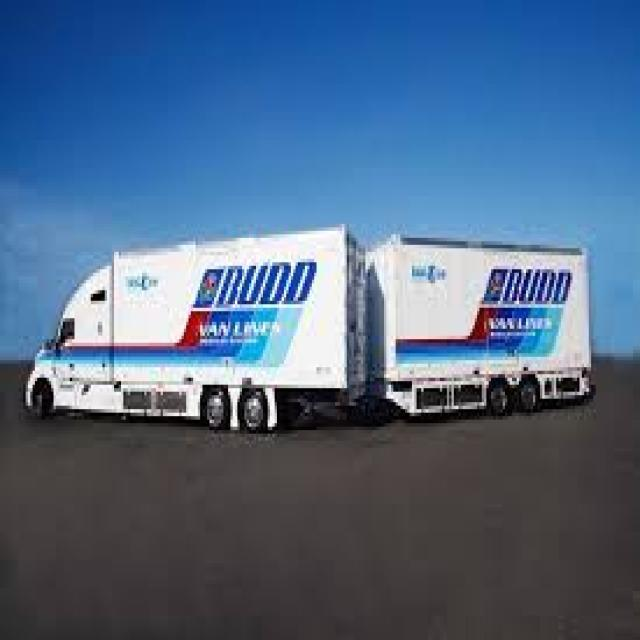covered: (29, 232, 592, 426)
